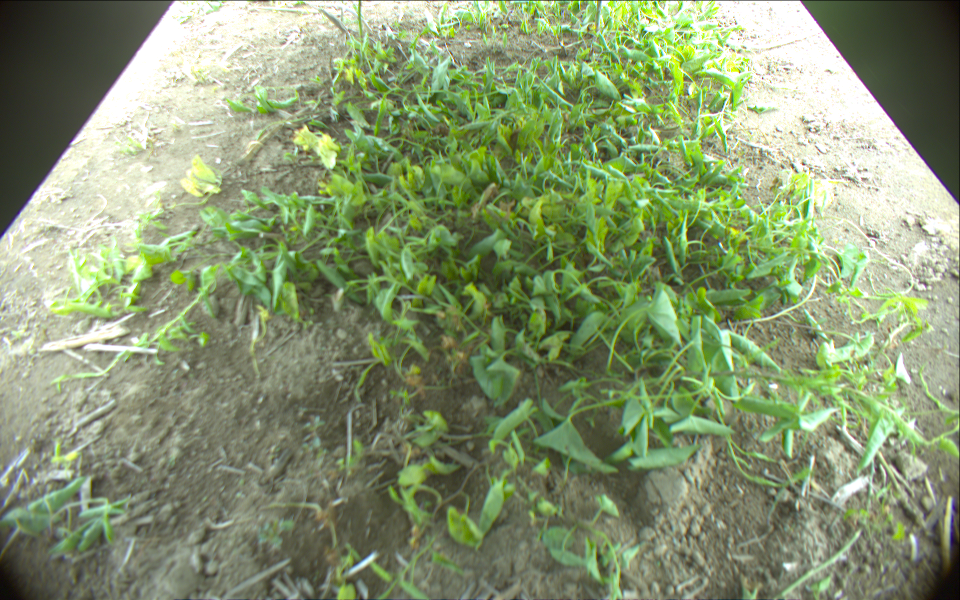aspa: (318, 6, 354, 49), (357, 1, 365, 50), (596, 1, 602, 30)
